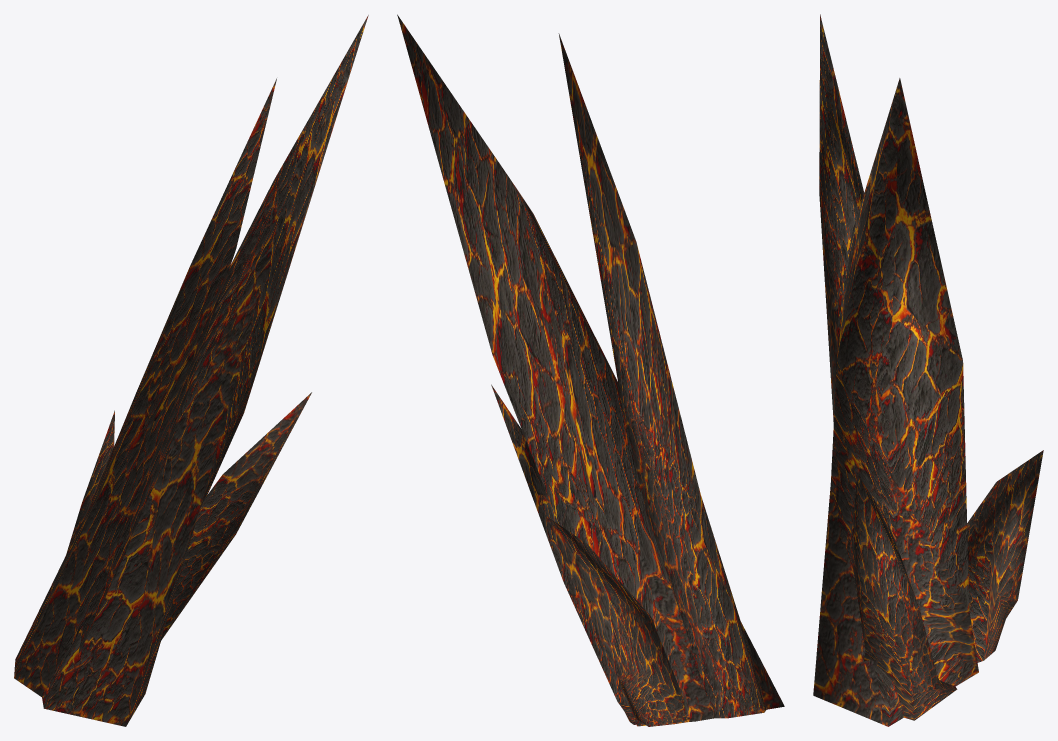
The model's file is jiaoci (1) #037013.fbx.
3 renders of one model, left to right at view 1: azimuth 30°, elevation 25°; view 2: azimuth 150°, elevation 25°; view 3: azimuth 270°, elevation 25°, orthographic. The views are drawn at different scales.
Visible parts, largest first — view 1: jiaoci (1); view 2: jiaoci (1); view 3: jiaoci (1).
Boxes of the visible parts, x1,y1,x2,y2 form: jiaoci (1): (14, 15, 368, 726); jiaoci (1): (397, 14, 784, 726); jiaoci (1): (813, 14, 1043, 726).
Size of the model in its own units: 2.14 by 3.59 by 0.9485.
Materials: 1 (1 with a texture image).
